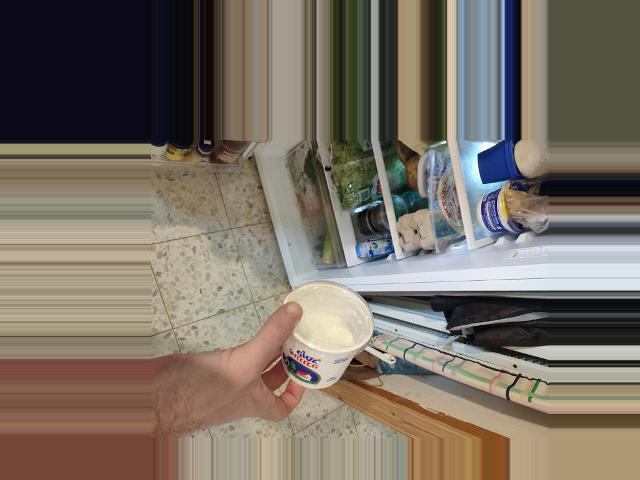cotage: (270, 282, 385, 391)
